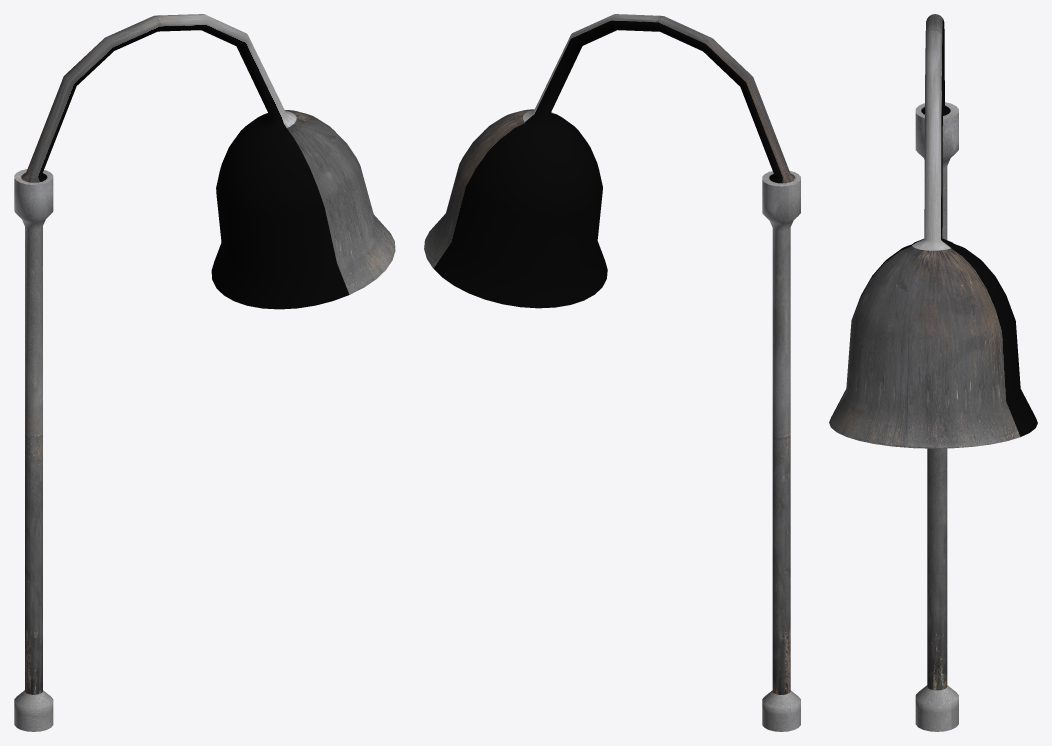
The model's file is lampPostTextured2.FBX.
3 views of the same model, side by side, from view 1: azimuth 30°, elevation 25°; view 2: azimuth 150°, elevation 25°; view 3: azimuth 270°, elevation 25° (orthographic). The views are drawn at different scales.
Parts seen in each view (by area): view 1: Cylinder002; view 2: Cylinder002; view 3: Cylinder002.
Boxes of the visible parts, x1=… form: Cylinder002: x1=14, y1=14, x2=395, y2=731; Cylinder002: x1=424, y1=14, x2=800, y2=731; Cylinder002: x1=829, y1=14, x2=1037, y2=731.
Size of the model in its own units: 181 by 321 by 80.11.
Materials: 1 (1 with a texture image).
